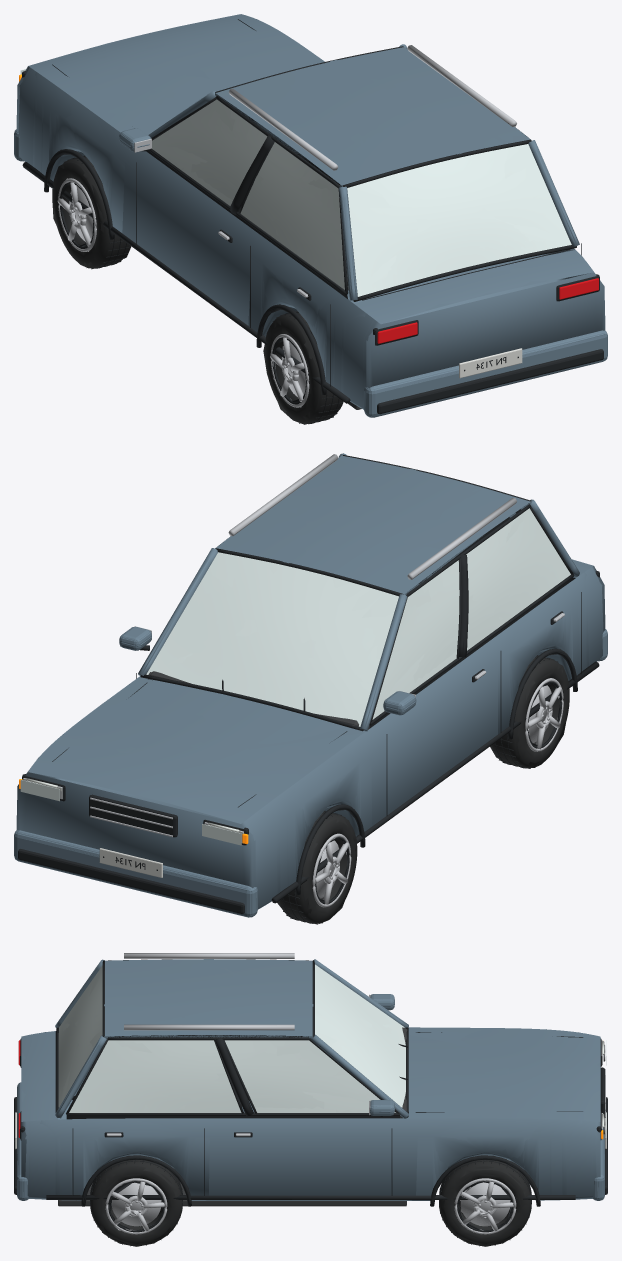
The model's file is VehicleSuv.fbx.
3 views of the same model, one above another, from view 1: azimuth 30°, elevation 25°; view 2: azimuth 150°, elevation 25°; view 3: azimuth 270°, elevation 25° (orthographic). The views are drawn at different scales.
Parts seen in each view (by area): view 1: VehicleSuv_Body_LOD0_Export, VehicleSuv_Glass_LOD0_Export, VehicleSuv_Body_LOD1_Export, VehicleSuv_Body_LOD2_Export, VehicleSuv_Glass_LOD1_Export, VehicleSuv_Glass_LOD2_Export, VehicleSuv_Wheel_0_LOD0_Export, VehicleSuv_Wheel_1_LOD0_Export, VehicleSuv_Wheel_0_LOD1_Export, VehicleSuv_Wheel_1_LOD1_Export, VehicleSuv_Wheel_0_LOD2_Export, VehicleSuv_Wheel_1_LOD2_Export; view 2: VehicleSuv_Body_LOD0_Export, VehicleSuv_Glass_LOD0_Export, VehicleSuv_Body_LOD1_Export, VehicleSuv_Body_LOD2_Export, VehicleSuv_Glass_LOD1_Export, VehicleSuv_Wheel_1_LOD0_Export, VehicleSuv_Wheel_0_LOD0_Export, VehicleSuv_Glass_LOD2_Export, VehicleSuv_Wheel_0_LOD1_Export, VehicleSuv_Wheel_1_LOD1_Export, VehicleSuv_Wheel_1_LOD2_Export, VehicleSuv_Wheel_0_LOD2_Export; view 3: VehicleSuv_Body_LOD0_Export, VehicleSuv_Glass_LOD0_Export, VehicleSuv_Body_LOD1_Export, VehicleSuv_Body_LOD2_Export, VehicleSuv_Glass_LOD1_Export, VehicleSuv_Wheel_3_LOD0_Export, VehicleSuv_Wheel_2_LOD0_Export, VehicleSuv_Wheel_2_LOD1_Export, VehicleSuv_Glass_LOD2_Export, VehicleSuv_Wheel_3_LOD1_Export, VehicleSuv_Wheel_3_LOD2_Export, VehicleSuv_Wheel_2_LOD2_Export.
Part boxes in pixels (<box>): VehicleSuv_Body_LOD0_Export: <box>14,14,607,417</box>; VehicleSuv_Glass_LOD0_Export: <box>20,69,571,296</box>; VehicleSuv_Body_LOD1_Export: <box>15,16,607,417</box>; VehicleSuv_Body_LOD2_Export: <box>15,21,607,416</box>; VehicleSuv_Glass_LOD1_Export: <box>152,99,565,291</box>; VehicleSuv_Glass_LOD2_Export: <box>156,101,558,286</box>; VehicleSuv_Wheel_0_LOD0_Export: <box>265,311,343,424</box>; VehicleSuv_Wheel_1_LOD0_Export: <box>52,155,129,269</box>; VehicleSuv_Wheel_0_LOD1_Export: <box>265,315,342,424</box>; VehicleSuv_Wheel_1_LOD1_Export: <box>52,159,129,268</box>; VehicleSuv_Wheel_0_LOD2_Export: <box>263,318,321,424</box>; VehicleSuv_Wheel_1_LOD2_Export: <box>52,160,131,268</box>; VehicleSuv_Body_LOD0_Export: <box>14,453,607,917</box>; VehicleSuv_Glass_LOD0_Export: <box>20,512,570,845</box>; VehicleSuv_Body_LOD1_Export: <box>14,453,605,916</box>; VehicleSuv_Body_LOD2_Export: <box>15,455,606,916</box>; VehicleSuv_Glass_LOD1_Export: <box>157,508,570,718</box>; VehicleSuv_Wheel_1_LOD0_Export: <box>279,810,357,924</box>; VehicleSuv_Wheel_0_LOD0_Export: <box>491,655,569,768</box>; VehicleSuv_Glass_LOD2_Export: <box>167,512,525,714</box>; VehicleSuv_Wheel_0_LOD1_Export: <box>491,659,569,767</box>; VehicleSuv_Wheel_1_LOD1_Export: <box>279,815,356,923</box>; VehicleSuv_Wheel_1_LOD2_Export: <box>277,816,357,923</box>; VehicleSuv_Wheel_0_LOD2_Export: <box>490,660,565,767</box>; VehicleSuv_Body_LOD0_Export: <box>14,953,607,1206</box>; VehicleSuv_Glass_LOD0_Export: <box>58,967,606,1137</box>; VehicleSuv_Body_LOD1_Export: <box>15,959,605,1205</box>; VehicleSuv_Body_LOD2_Export: <box>14,959,607,1205</box>; VehicleSuv_Glass_LOD1_Export: <box>58,970,405,1112</box>; VehicleSuv_Wheel_3_LOD0_Export: <box>439,1155,531,1246</box>; VehicleSuv_Wheel_2_LOD0_Export: <box>90,1155,182,1246</box>; VehicleSuv_Wheel_2_LOD1_Export: <box>91,1156,181,1243</box>; VehicleSuv_Glass_LOD2_Export: <box>58,964,405,1112</box>; VehicleSuv_Wheel_3_LOD1_Export: <box>439,1156,530,1243</box>; VehicleSuv_Wheel_3_LOD2_Export: <box>440,1163,530,1246</box>; VehicleSuv_Wheel_2_LOD2_Export: <box>91,1163,181,1246</box>.
Size of the model in its own units: 2.18 by 1.84 by 4.77.
